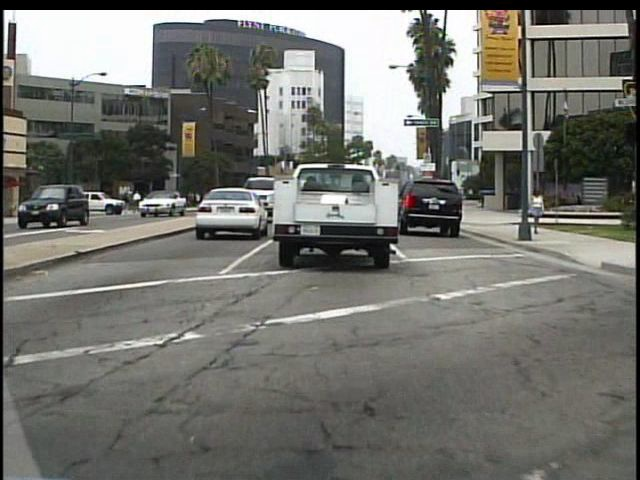person: (528, 186, 548, 242), (133, 188, 143, 216), (125, 191, 128, 216)
